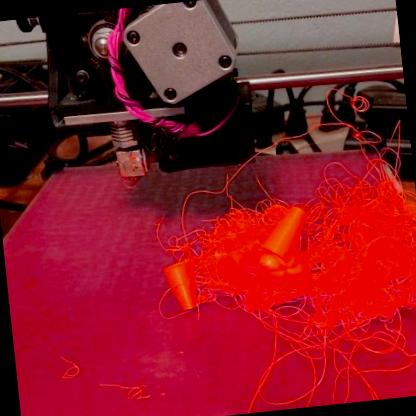fail: (162, 141, 416, 411)
